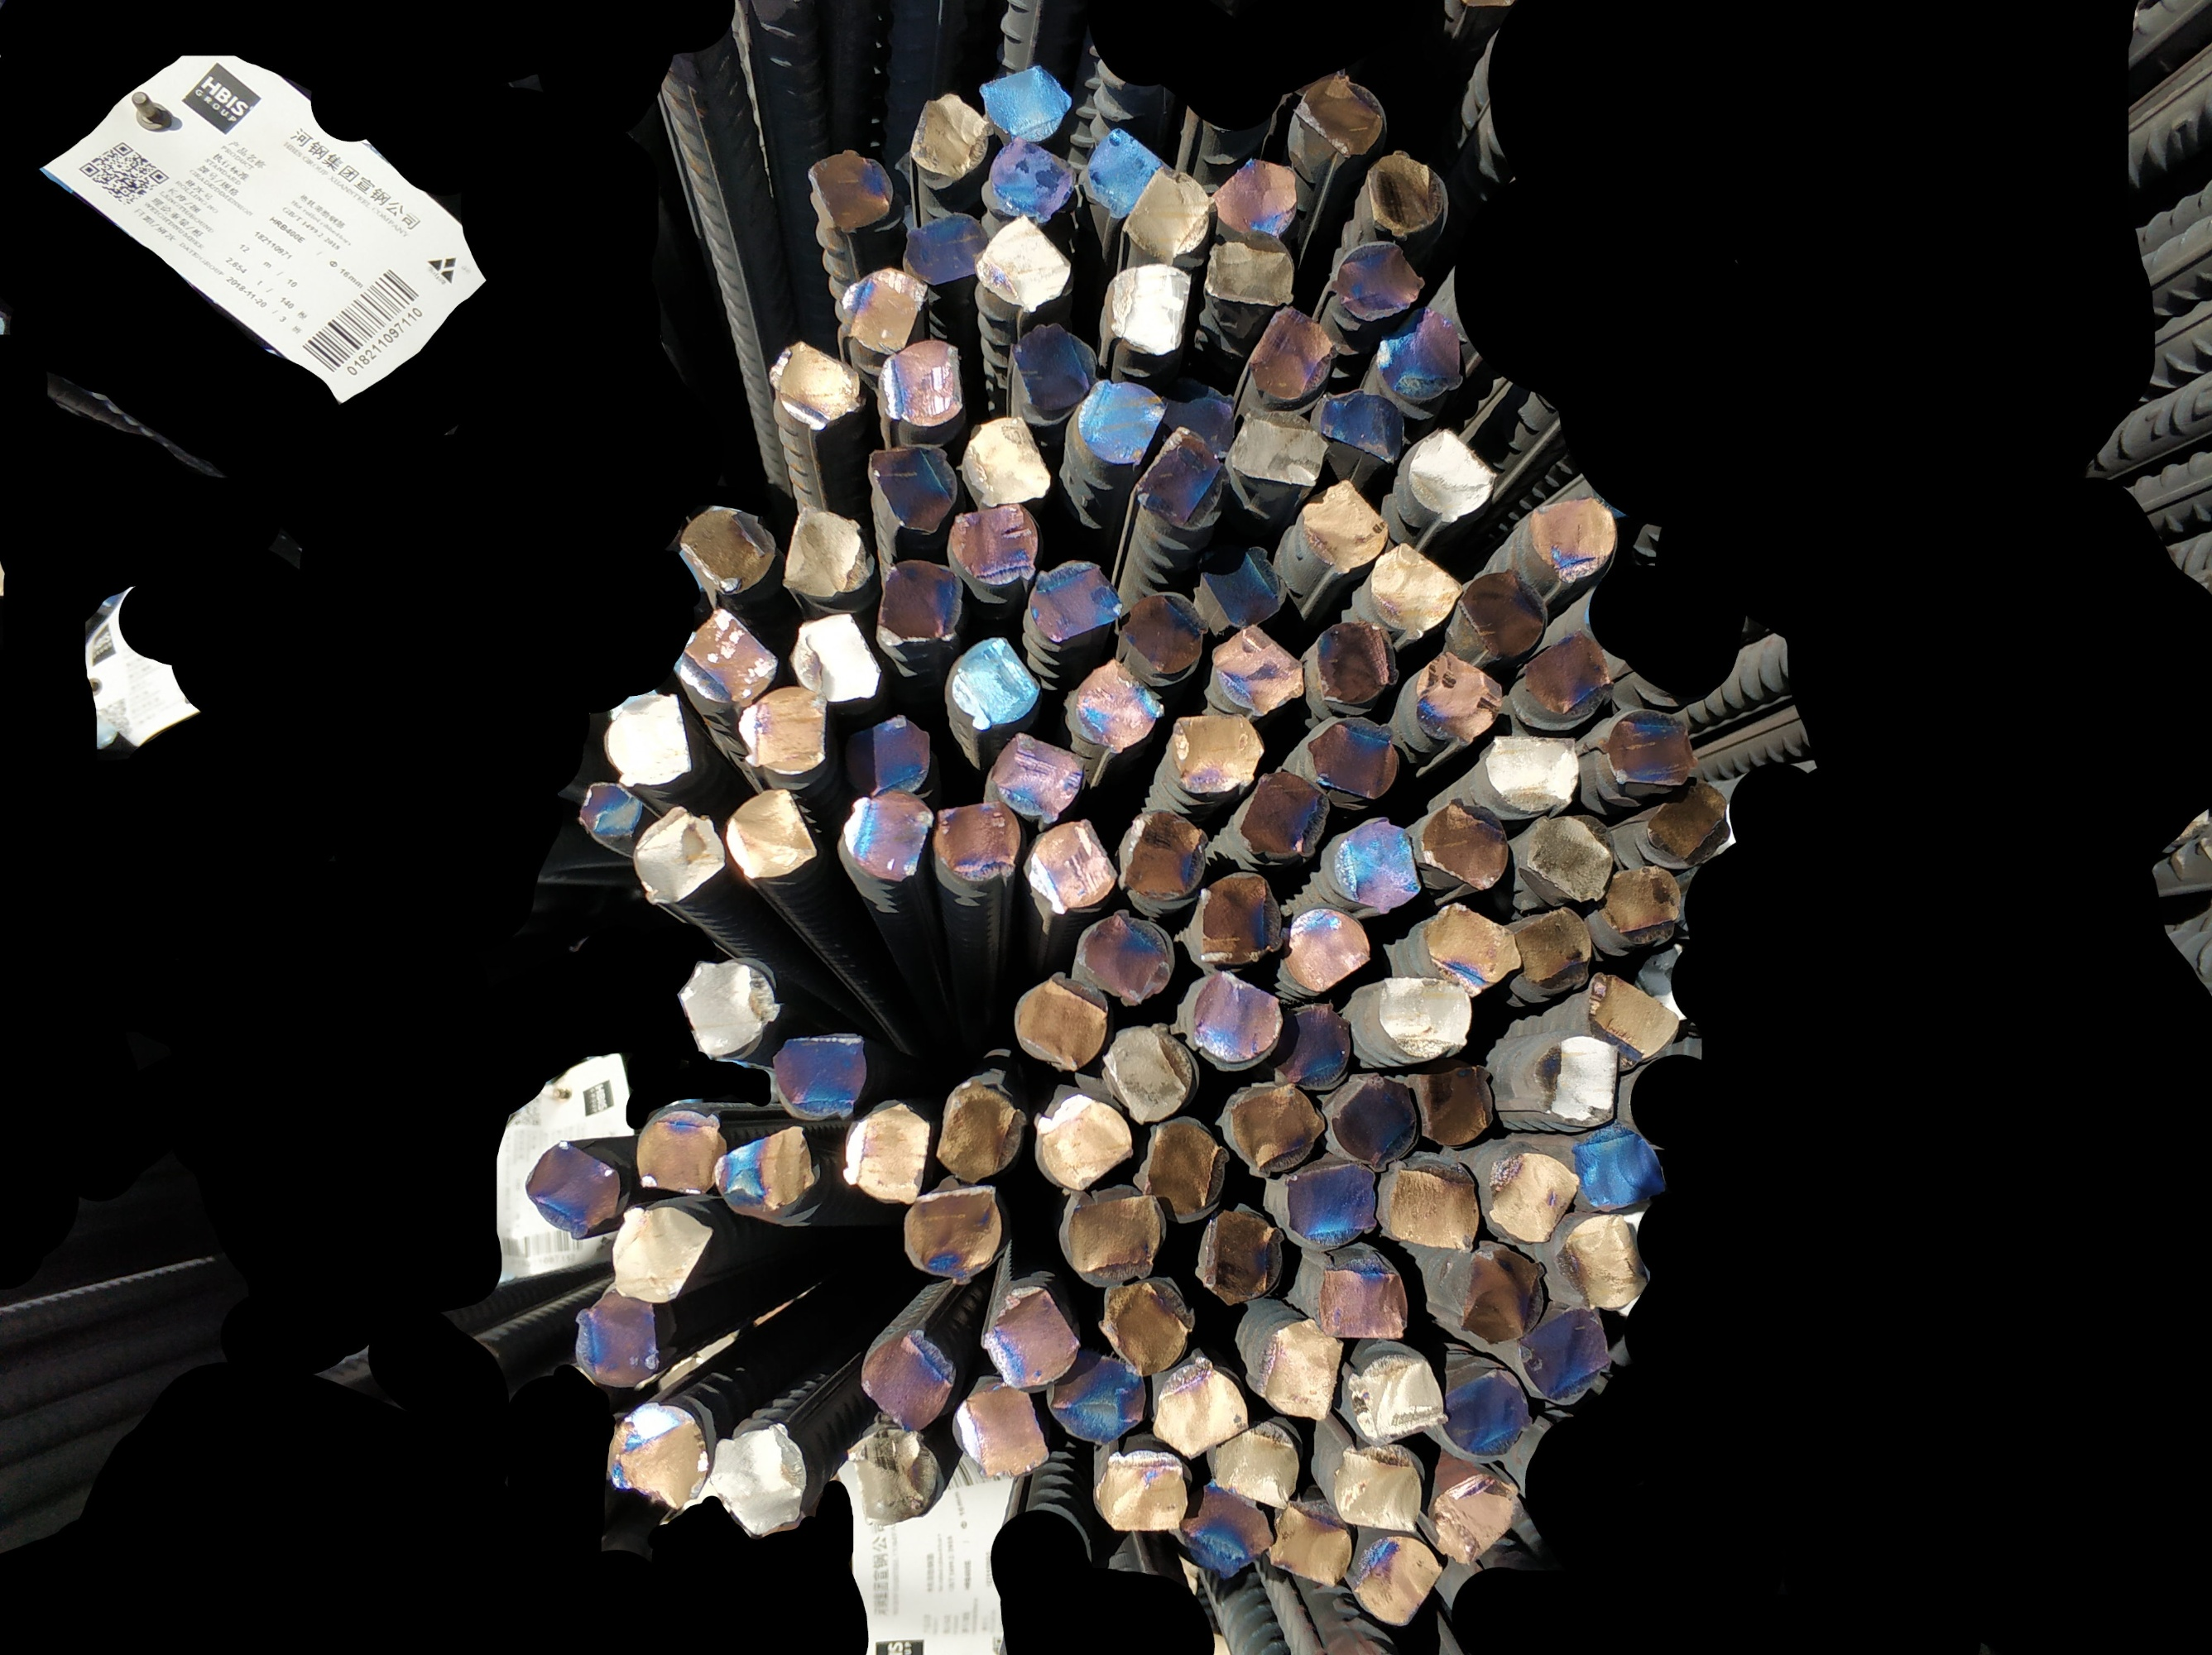rebar: (1051, 1179, 1169, 1292), (705, 1420, 811, 1542), (1216, 1074, 1333, 1184), (672, 953, 785, 1064), (1145, 1354, 1255, 1466), (977, 1286, 1086, 1396), (1169, 1474, 1279, 1584), (1175, 965, 1286, 1073), (1288, 71, 1392, 186), (518, 1135, 627, 1243), (898, 1180, 1008, 1288), (1128, 421, 1234, 532), (669, 605, 782, 709), (606, 1399, 711, 1512), (945, 1379, 1056, 1483), (1131, 1111, 1232, 1226), (855, 1326, 961, 1434), (1041, 1344, 1150, 1448), (626, 803, 732, 909), (1029, 1092, 1136, 1196), (1378, 1156, 1487, 1259), (1010, 967, 1110, 1078), (938, 635, 1044, 739), (608, 1201, 714, 1306), (971, 212, 1079, 315), (1060, 655, 1168, 758), (1096, 1019, 1199, 1127), (1324, 812, 1427, 918), (1411, 793, 1513, 899), (1319, 1069, 1421, 1175), (1341, 1349, 1451, 1448), (707, 1123, 818, 1220), (1095, 1276, 1199, 1379), (983, 727, 1089, 827), (718, 786, 824, 887), (1418, 899, 1524, 1000), (1366, 539, 1468, 641), (596, 690, 700, 791), (1017, 817, 1121, 918), (1003, 322, 1102, 428), (672, 502, 780, 600), (1272, 1156, 1380, 1253), (1244, 301, 1340, 410), (777, 501, 878, 603), (1206, 621, 1308, 721), (843, 1426, 944, 1528), (1192, 1205, 1289, 1311), (1503, 902, 1597, 1012), (935, 1078, 1027, 1189), (834, 784, 935, 885), (1114, 805, 1213, 907), (766, 336, 871, 433), (784, 610, 888, 708), (1119, 160, 1213, 268), (1258, 1316, 1350, 1426), (1482, 1149, 1583, 1248), (1192, 867, 1289, 970), (766, 1029, 871, 1125), (1559, 1210, 1654, 1314), (1456, 1241, 1550, 1347), (839, 1099, 931, 1206), (1519, 810, 1619, 907), (1585, 965, 1682, 1066), (1312, 1250, 1414, 1346), (1074, 914, 1178, 1008), (1162, 708, 1268, 800), (732, 678, 829, 777), (570, 1293, 667, 1392), (1428, 1471, 1527, 1568), (1517, 1306, 1614, 1405), (1239, 767, 1334, 867), (1569, 1123, 1670, 1219), (871, 555, 968, 652), (978, 130, 1079, 224), (1406, 424, 1500, 525), (1190, 546, 1293, 638), (1531, 1029, 1623, 1132), (865, 438, 961, 535), (632, 1104, 730, 1200), (1329, 1439, 1425, 1537), (1374, 304, 1468, 403), (956, 414, 1055, 508), (1520, 626, 1619, 720), (1100, 259, 1192, 360), (1413, 648, 1505, 749), (1604, 704, 1705, 796), (1456, 563, 1552, 659), (1348, 1532, 1444, 1627), (832, 264, 930, 358), (1295, 478, 1394, 570), (839, 708, 938, 800), (1374, 972, 1475, 1062), (1091, 1445, 1192, 1535), (1025, 558, 1131, 643), (1222, 407, 1329, 490), (1305, 711, 1402, 803), (1279, 906, 1376, 998), (1209, 1419, 1301, 1516), (1482, 730, 1583, 819), (874, 339, 970, 431), (1526, 494, 1621, 586), (1263, 1493, 1355, 1589), (1439, 1365, 1534, 1455), (1202, 224, 1300, 313), (1072, 377, 1169, 466), (926, 796, 1023, 885), (975, 59, 1076, 144), (944, 502, 1043, 588), (1328, 240, 1428, 323), (805, 148, 897, 238), (1119, 588, 1213, 676), (1081, 125, 1168, 221), (1310, 619, 1402, 708), (1362, 146, 1447, 242), (1274, 996, 1357, 1093), (1209, 155, 1300, 243), (1411, 1064, 1500, 1153), (1310, 388, 1406, 466), (1646, 775, 1731, 862), (1602, 862, 1685, 949), (909, 92, 990, 179), (900, 209, 992, 285), (1159, 370, 1239, 455), (573, 779, 648, 843)
